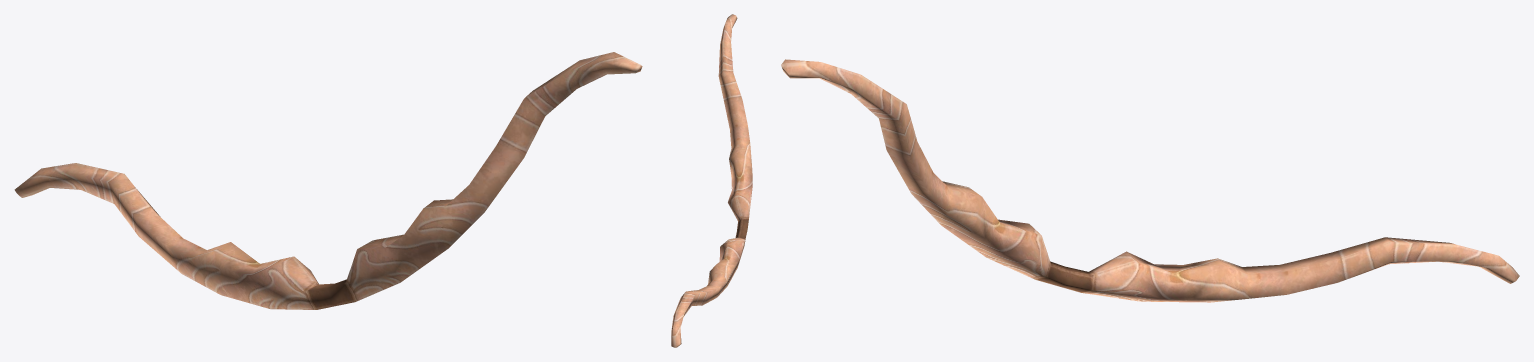
The model's file is rider-weapon-slice-ironweapons.glb.
3 renders of one model, left to right at view 1: azimuth 30°, elevation 25°; view 2: azimuth 150°, elevation 25°; view 3: azimuth 270°, elevation 25°, orthographic. The views are drawn at different scales.
Bounding box in the file's own units: 0.5833 × 0.7083 × 1.4.
Materials: 1 (1 with a texture image).
